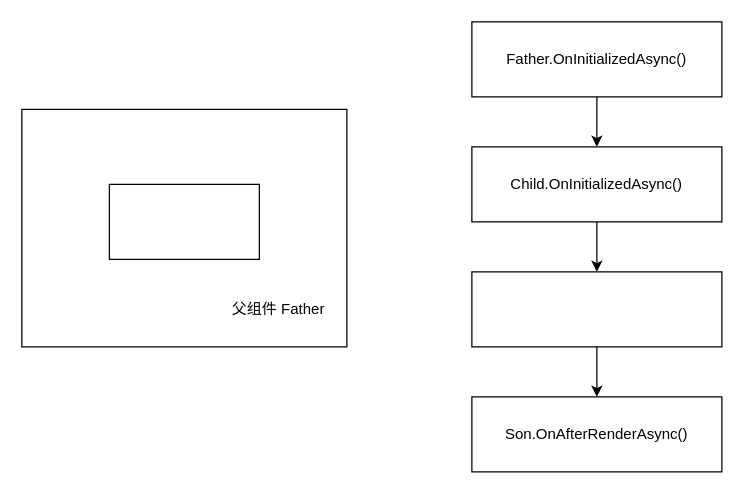
The diagram is 744 pixels wide and 494 high, and some of its shapes have lost their labels. Here are the shapes that lost their labels. From the top down, the centre of each, then its label:
the point at 183,221: 子组件 Child
the point at 596,309: Father.OnAfterRenderAsync()
